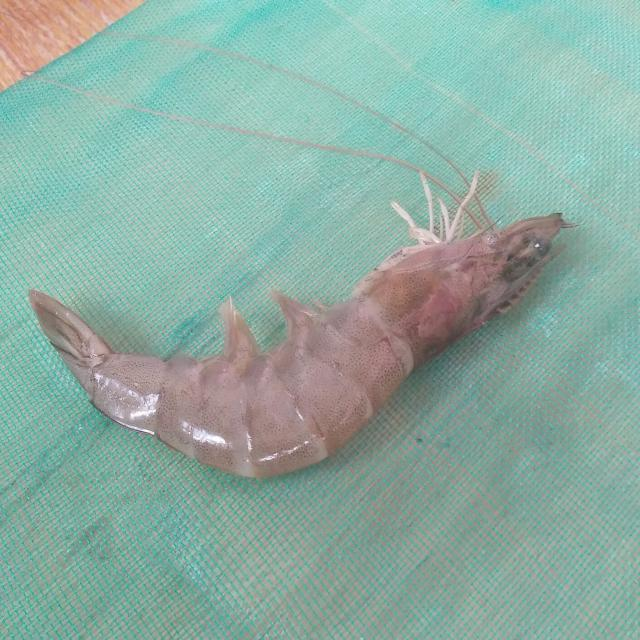shrimp: (29, 213, 570, 478)
